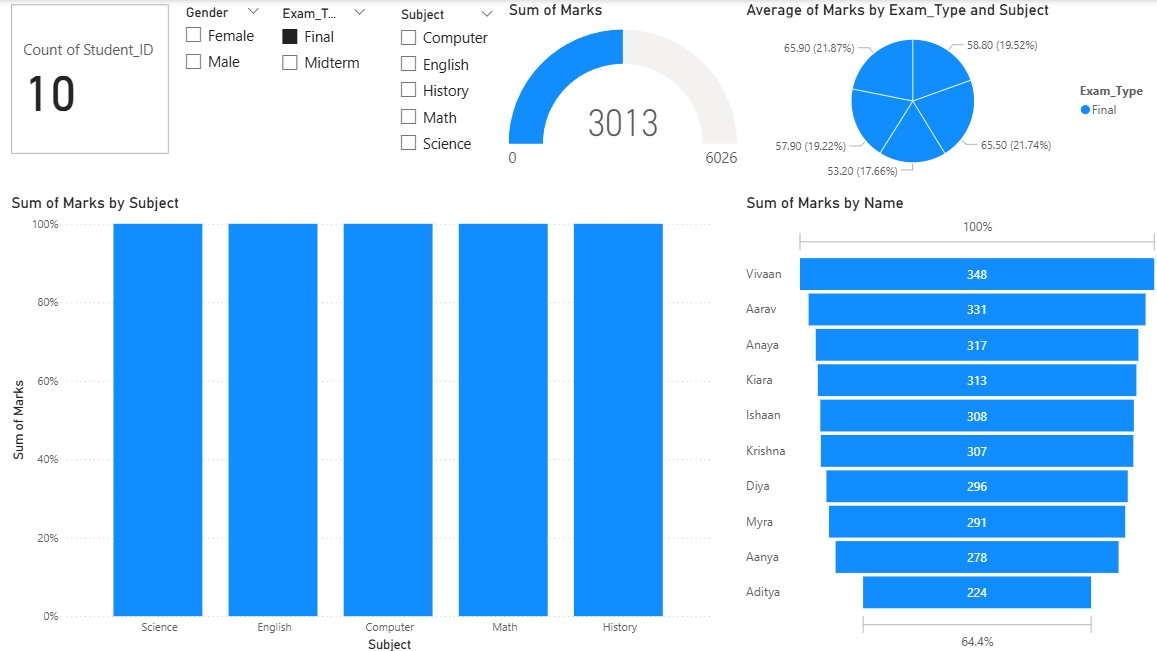

Layout of this report page (visuals, bound fields, positions):
{"tool":"powerbi","page":{"name":"Page 1","canvas":[1280,720],"ordinal":0},"visuals":[{"type":"cardVisual","fields":{"Data":["student_performance_data.Student_ID"]},"box":[9.6,0,183.9,174.3],"z":0},{"type":"slicer","fields":{"Values":["student_performance_data.Gender"]},"box":[193.5,0,105.7,174.3],"z":1},{"type":"slicer","fields":{"Values":["student_performance_data.Exam_Type"]},"box":[299.1,1.4,116.6,174.3],"z":2},{"type":"slicer","fields":{"Values":["student_performance_data.Subject"]},"box":[429.5,2.7,126.2,174.3],"z":3},{"type":"gauge","fields":{"Y":["student_performance_data.Marks"]},"box":[555.7,0,260.7,203.1],"z":4},{"type":"hundredPercentStackedColumnChart","fields":{"Category":["student_performance_data.Subject"],"Y":["student_performance_data.Marks"]},"box":[9.6,212.7,779.4,507.7],"z":5},{"type":"pieChart","fields":{"Category":["student_performance_data.Exam_Type","student_performance_data.Class"],"Series":["student_performance_data.Subject"],"Y":["student_performance_data.Marks"]},"box":[817,0,463,203],"z":6},{"type":"funnel","fields":{"Category":["student_performance_data.Name"],"Y":["student_performance_data.Marks"]},"box":[817,213,463,507],"z":7}]}

Visuals, with their boxes in screenshot pixels (x1, y1, x2, y2), scaled from the page's 1280x720 canvas onto the 1157x651 screenshot:
cardVisual - student_performance_data.Student_ID: 9, 0, 175, 158
slicer - student_performance_data.Gender: 175, 0, 270, 158
slicer - student_performance_data.Exam_Type: 270, 1, 376, 159
slicer - student_performance_data.Subject: 388, 2, 502, 160
gauge - student_performance_data.Marks: 502, 0, 738, 184
hundredPercentStackedColumnChart - student_performance_data.Subject x student_performance_data.Marks: 9, 192, 713, 650
pieChart - student_performance_data.Exam_Type x student_performance_data.Class: 738, 0, 1156, 184
funnel - student_performance_data.Name x student_performance_data.Marks: 738, 193, 1156, 650
